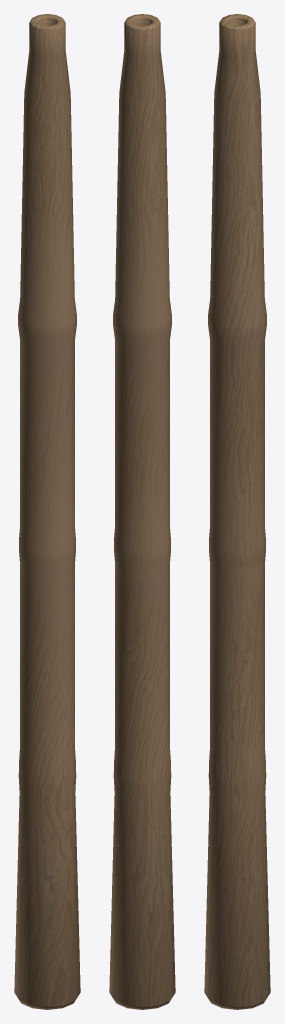
Rendered from Canuto.fbx.
3 renders of one model, left to right at view 1: azimuth 90°, elevation 25°; view 2: azimuth 150°, elevation 25°; view 3: azimuth 270°, elevation 25°, orthographic.
Visible parts, largest first — view 1: Canuto; view 2: Canuto; view 3: Canuto.
Boxes of the visible parts, x1,y1,x2,y2 form: Canuto: [14, 14, 80, 1009]; Canuto: [109, 14, 175, 1009]; Canuto: [204, 14, 270, 1009].
Bounding box in the file's own units: 7.44 × 121 × 7.44.
Materials: 1 (1 with a texture image).
